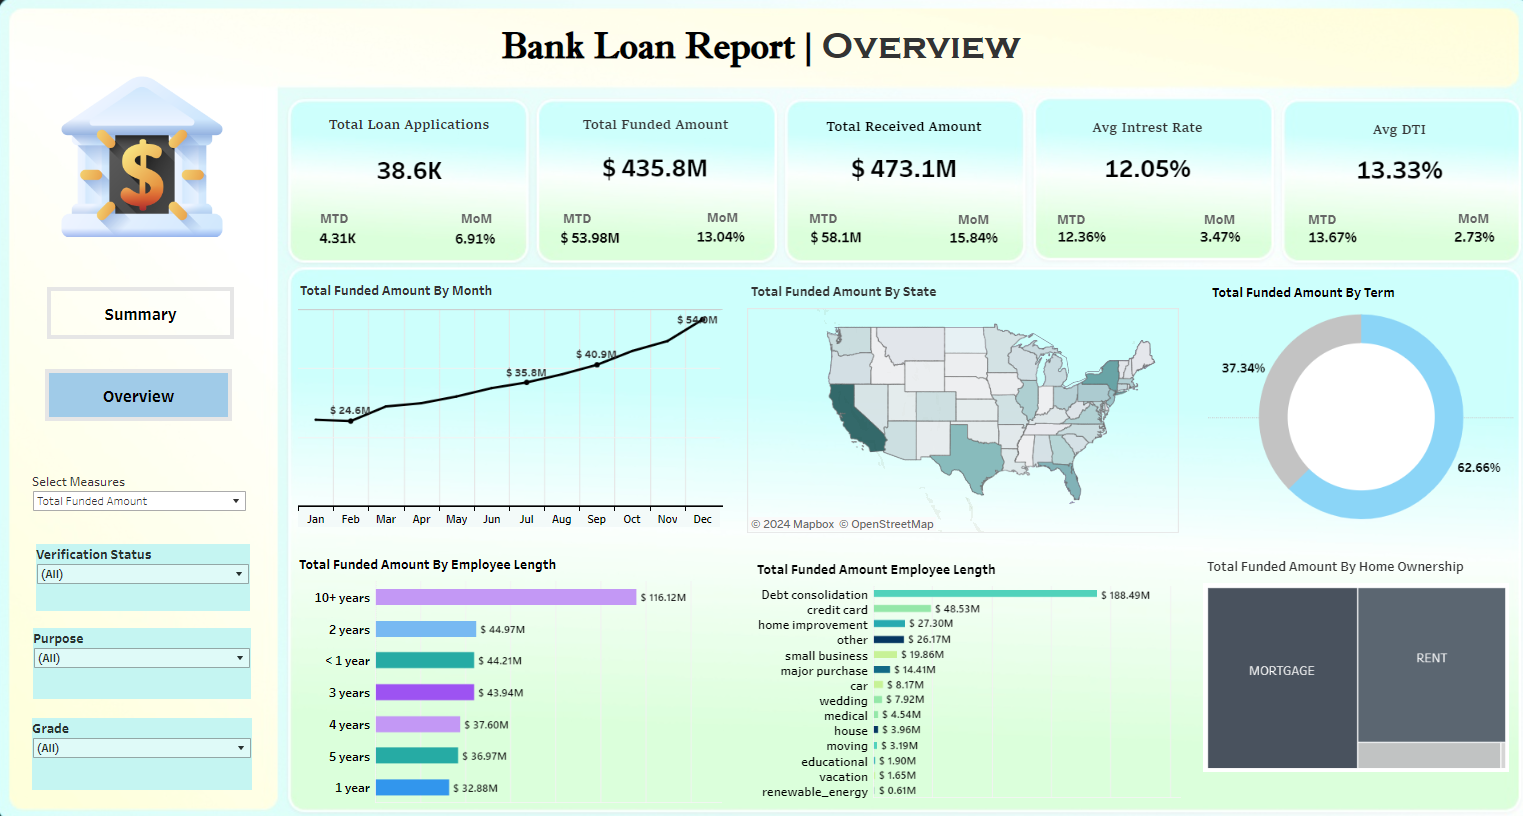

The page's visual inventory and layout, read from the dashboard file:
{"tool":"tableau","page":{"name":"Overview","canvas":[1600,900],"ordinal":0},"visuals":[{"type":"title","box":[8,8,1584,32]},{"type":"image","param":"C:/Users/BHUSHAN/Downloads/Untitled.png","box":[12,11,1533,829]},{"type":"text","box":[387,37,778,50]},{"type":"image","param":"C:/Users/BHUSHAN/Downloads/bank.png","box":[30,92,253,161]},{"type":"worksheet","title":"Total Loan Applications","mark":"Automatic","box":[311,126,226,85]},{"type":"worksheet","title":"Total Funded Amount","mark":"Automatic","box":[554,126,233,80]},{"type":"worksheet","title":"Total Received Amount","mark":"Automatic","box":[805,128,228,77]},{"type":"worksheet","title":"Avg Intrest Rate","mark":"Automatic","box":[1050,129,225,76]},{"type":"worksheet","title":"Avg DTI","mark":"Automatic","box":[1346,131,137,74]},{"type":"text","box":[707,217,61,30]},{"type":"text","box":[335,218,43,30]},{"type":"text","box":[461,218,61,30]},{"type":"text","box":[578,218,43,30]},{"type":"text","box":[824,218,43,30]},{"type":"text","box":[1458,218,61,30]},{"type":"text","box":[958,219,61,30]},{"type":"text","box":[1072,219,43,30]},{"type":"text","box":[1204,219,61,30]},{"type":"text","box":[1323,219,43,30]},{"type":"worksheet","title":"MoM Funded Amount","mark":"Automatic","box":[675,235,120,33]},{"type":"worksheet","title":"MTD Avg Intrest Rate","mark":"Automatic","box":[1051,239,90,25]},{"type":"worksheet","title":"MoM Avg DTI","mark":"Automatic","box":[1453,239,71,27]},{"type":"worksheet","title":"MTD Funded Amount","mark":"Automatic","box":[539,240,130,26]},{"type":"worksheet","title":"MoM Received Amount","mark":"Automatic","box":[948,240,79,26]},{"type":"worksheet","title":"MoM Avg Intrest Rate","mark":"Automatic","box":[1193,240,83,24]},{"type":"worksheet","title":"MoM Loan Applications","mark":"Automatic","box":[437,241,105,26]},{"type":"worksheet","title":"MTD Received Amount","mark":"Automatic","box":[805,241,90,23]},{"type":"worksheet","title":"MTD Avg DTI","mark":"Automatic","box":[1309,241,75,23]},{"type":"worksheet","title":"MTD Loan Applications","mark":"Automatic","box":[312,243,80,21]},{"type":"worksheet","title":"Month","mark":"Area","rows":["Calculation_473159499638116364","Calculation_473159499638116364"],"cols":["issue_date"],"box":[311,289,428,256]},{"type":"worksheet","title":"Map","mark":"Multipolygon","box":[762,290,432,259]},{"type":"worksheet","title":"Sheet 29","mark":"Pie","rows":["Calculation_473159499656400911","Calculation_473159499656433681"],"box":[1223,291,306,249]},{"type":"dashboard-object","box":[62,303,187,52]},{"type":"dashboard-object","box":[60,385,187,52]},{"type":"parameter","param":"[Parameters].[Parameter 1]","box":[47,488,215,55]},{"type":"filter","title":"Avg DTI","param":"[federated.0jo257z184amy01brx45a1vlzrdv].[none:verification_status:nk]","box":[51,560,214,67]},{"type":"worksheet","title":"Sheet 30","mark":"Automatic","rows":["emp_length"],"cols":["Calculation_473159499638116364"],"box":[310,563,427,256]},{"type":"worksheet","title":"Sheet 32","mark":"Automatic","box":[1218,565,306,255]},{"type":"worksheet","title":"Sheet 30 (2)","mark":"Automatic","rows":["purpose"],"cols":["Calculation_473159499638116364"],"box":[768,568,428,246]},{"type":"filter","title":"Avg DTI","param":"[federated.0jo257z184amy01brx45a1vlzrdv].[none:purpose:nk]","box":[48,644,218,71]},{"type":"filter","title":"Avg DTI","param":"[federated.0jo257z184amy01brx45a1vlzrdv].[none:grade:nk]","box":[47,734,220,72]}]}

Visuals, with their boxes on the page's 1600x900 design canvas (x1, y1, x2, y2). These are canvas units, not pixel positions in the 1523x816 screenshot, which may show the page scaled, cropped or inside an application window:
title: (8, 8, 1592, 40)
image: (12, 11, 1545, 840)
text: (387, 37, 1165, 87)
image: (30, 92, 283, 253)
"Total Loan Applications" worksheet: (311, 126, 537, 211)
"Total Funded Amount" worksheet: (554, 126, 787, 206)
"Total Received Amount" worksheet: (805, 128, 1033, 205)
"Avg Intrest Rate" worksheet: (1050, 129, 1275, 205)
"Avg DTI" worksheet: (1346, 131, 1483, 205)
text: (707, 217, 768, 247)
text: (335, 218, 378, 248)
text: (461, 218, 522, 248)
text: (578, 218, 621, 248)
text: (824, 218, 867, 248)
text: (1458, 218, 1519, 248)
text: (958, 219, 1019, 249)
text: (1072, 219, 1115, 249)
text: (1204, 219, 1265, 249)
text: (1323, 219, 1366, 249)
"MoM Funded Amount" worksheet: (675, 235, 795, 268)
"MTD Avg Intrest Rate" worksheet: (1051, 239, 1141, 264)
"MoM Avg DTI" worksheet: (1453, 239, 1524, 266)
"MTD Funded Amount" worksheet: (539, 240, 669, 266)
"MoM Received Amount" worksheet: (948, 240, 1027, 266)
"MoM Avg Intrest Rate" worksheet: (1193, 240, 1276, 264)
"MoM Loan Applications" worksheet: (437, 241, 542, 267)
"MTD Received Amount" worksheet: (805, 241, 895, 264)
"MTD Avg DTI" worksheet: (1309, 241, 1384, 264)
"MTD Loan Applications" worksheet: (312, 243, 392, 264)
"Month" worksheet (Area marks): (311, 289, 739, 545)
"Map" worksheet (Multipolygon marks): (762, 290, 1194, 549)
"Sheet 29" worksheet (Pie marks): (1223, 291, 1529, 540)
dashboard-object: (62, 303, 249, 355)
dashboard-object: (60, 385, 247, 437)
parameter: (47, 488, 262, 543)
"Avg DTI" filter: (51, 560, 265, 627)
"Sheet 30" worksheet: (310, 563, 737, 819)
"Sheet 32" worksheet: (1218, 565, 1524, 820)
"Sheet 30 (2)" worksheet: (768, 568, 1196, 814)
"Avg DTI" filter: (48, 644, 266, 715)
"Avg DTI" filter: (47, 734, 267, 806)
